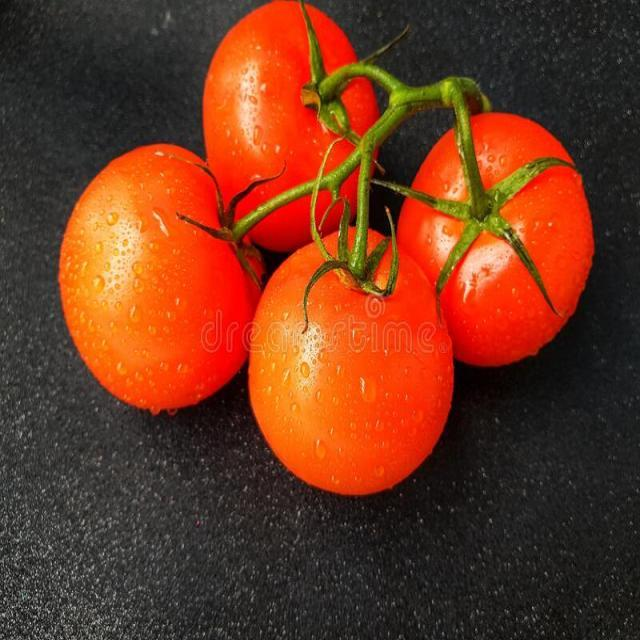sari: (42, 118, 466, 524)
